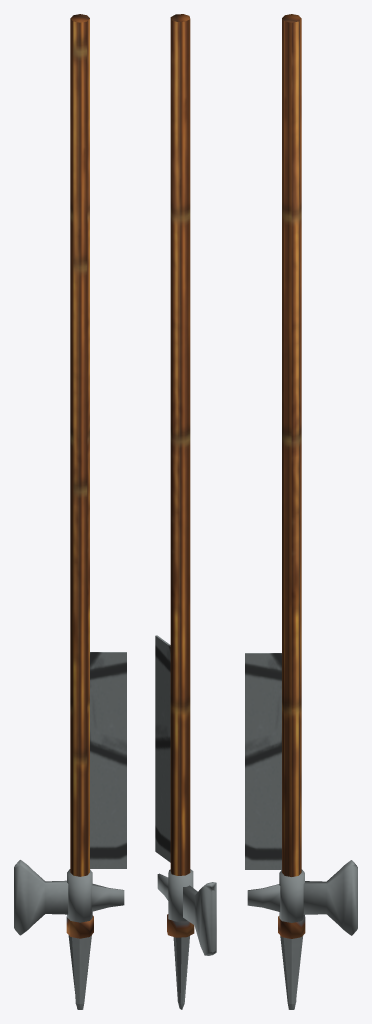
The model's file is inca_alabarda_h.dae.
3 renders of one model, left to right at view 1: azimuth 90°, elevation 25°; view 2: azimuth 210°, elevation 25°; view 3: azimuth 270°, elevation 25°, orthographic.
Visible parts, largest first — view 1: ALABARDAH; view 2: ALABARDAH; view 3: ALABARDAH.
Boxes of the visible parts, x1=… form: ALABARDAH: x1=14, y1=14, x2=126, y2=1009; ALABARDAH: x1=155, y1=14, x2=216, y2=1009; ALABARDAH: x1=245, y1=14, x2=357, y2=1009.
Size of the model in its own units: 0.1591 by 0.6193 by 6.
